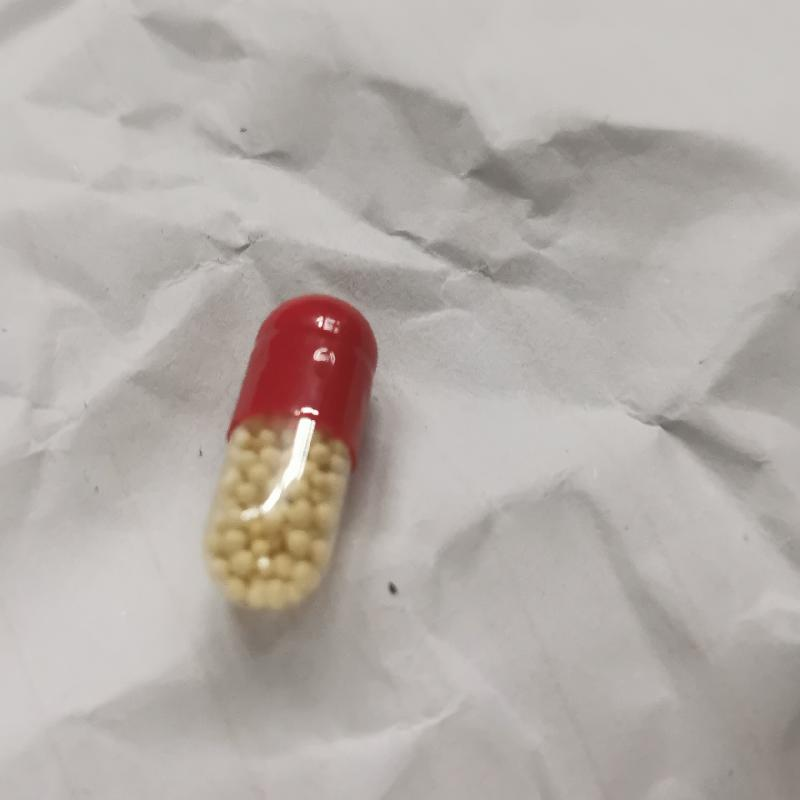pills: (199, 290, 384, 624)
